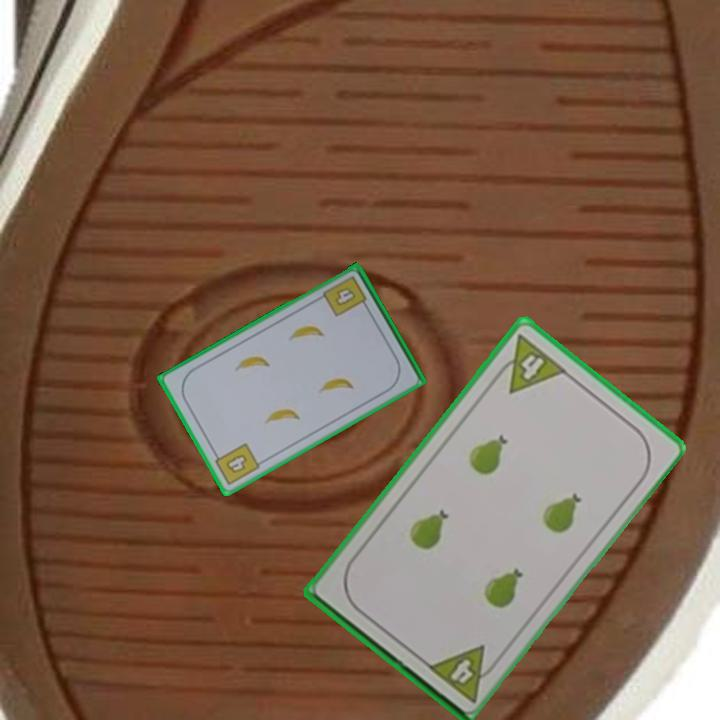4b: (209, 439, 263, 488), (319, 272, 371, 320)
4p: (489, 330, 569, 396), (422, 641, 503, 705)
